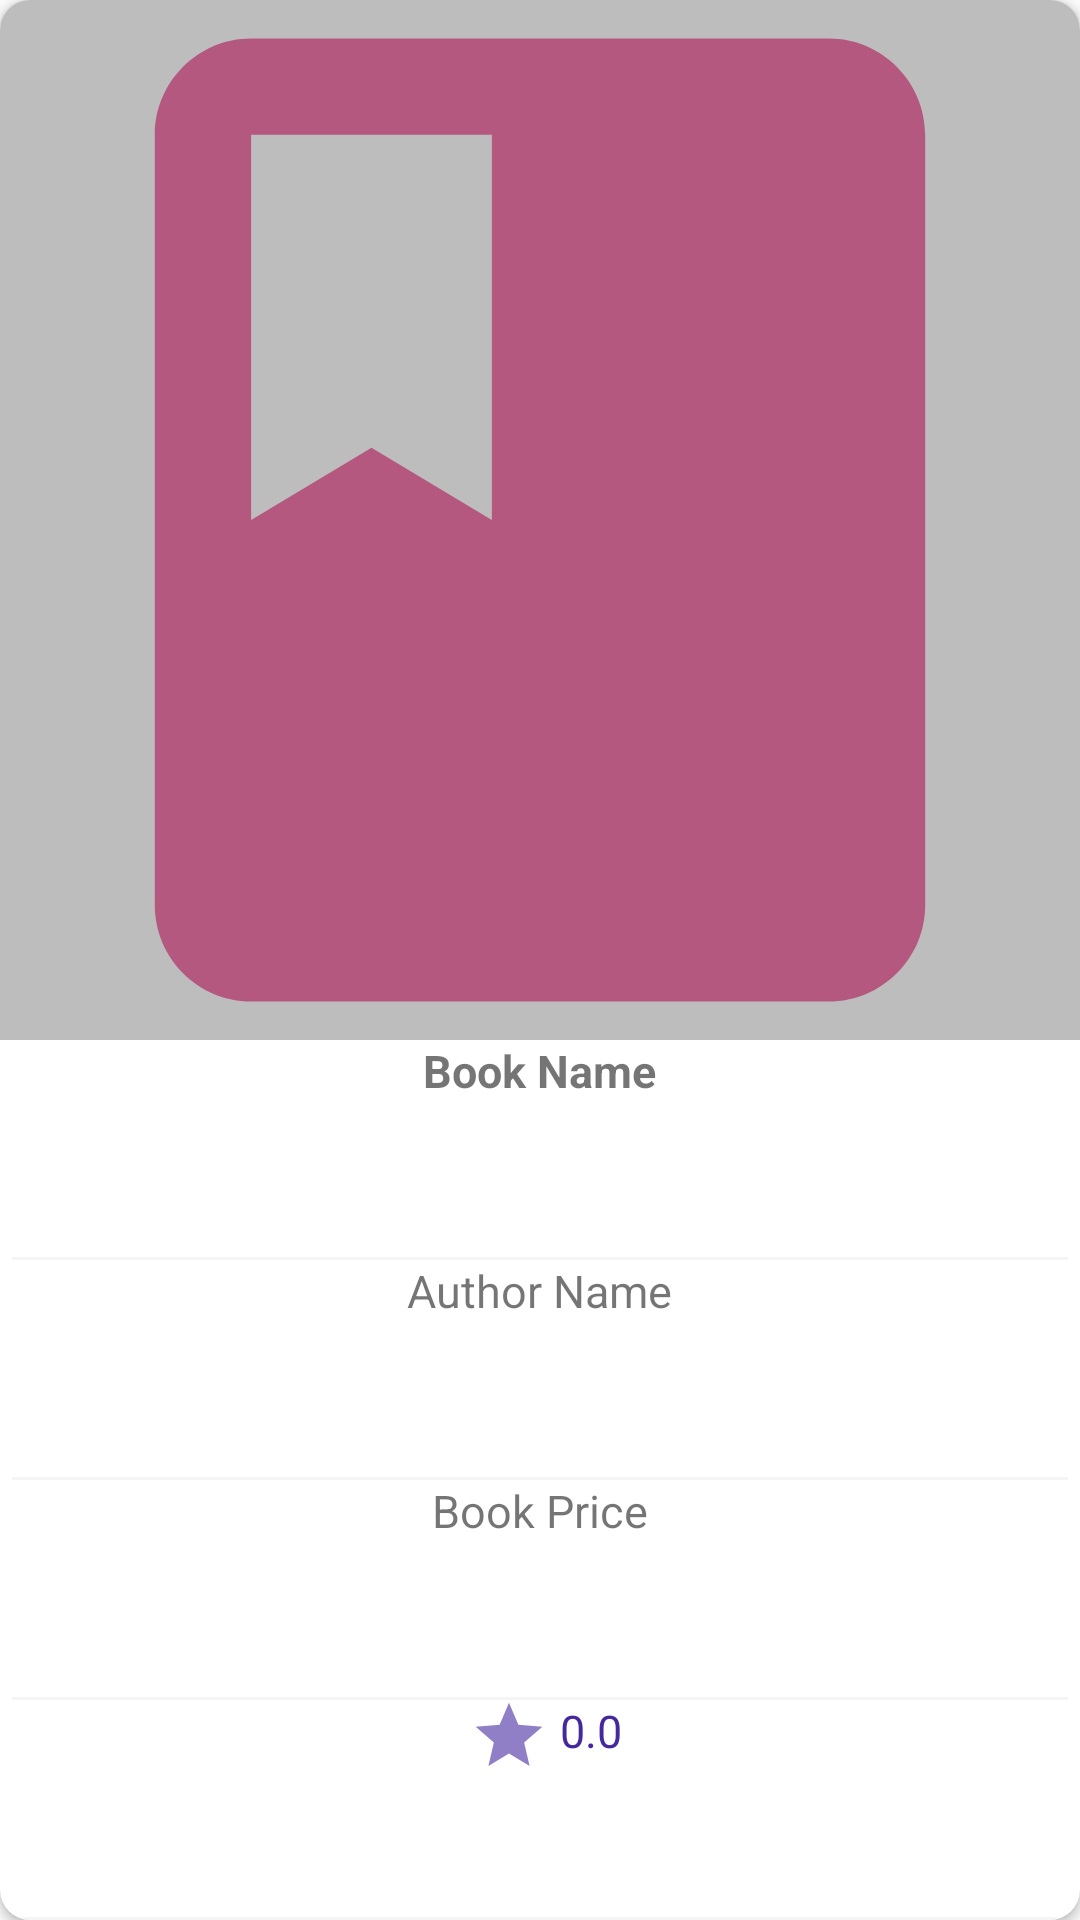

Icons on this 1080*1920 Android screen, each with the point to tap as point (x, y):
star: point (509, 1734)
